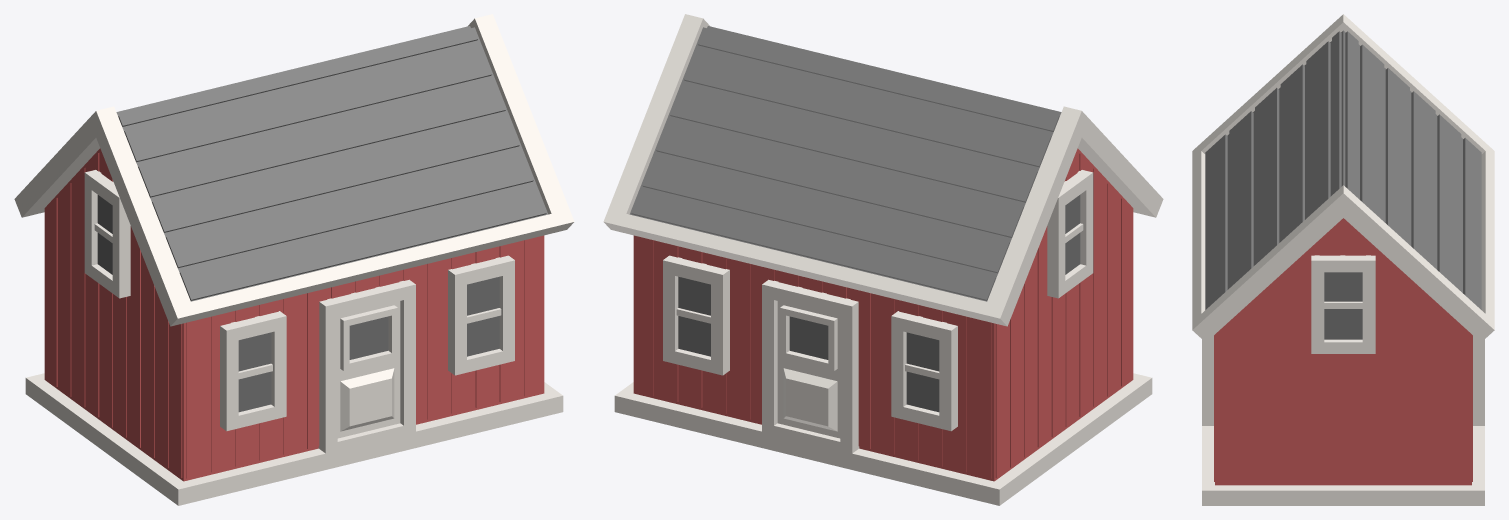
Rendered from 1 - HOUSE PBR.glb.
3 renders of one model, left to right at view 1: azimuth 30°, elevation 25°; view 2: azimuth 150°, elevation 25°; view 3: azimuth 270°, elevation 25°, orthographic. The views are drawn at different scales.
Visible parts, largest first — view 1: Cube-PBR.2, Cube-PBR.3 (×2), Cube-PBR.1 (×2), door.1-PBR.1, window.2-PBR.1, window.3-PBR.1, window.6-PBR.1, window.3-PBR.4, window.2-PBR.4, door.1-PBR.4, window.6-PBR.4; view 2: Cube-PBR.2, Cube-PBR.3 (×2), Cube-PBR.1 (×2), door-PBR.1, window.1-PBR.1, window-PBR.1, window.6-PBR.1, window-PBR.4, window.1-PBR.4, door-PBR.4, window.6-PBR.4; view 3: Cube-PBR.3 (×2), Cube-PBR.2, Cube-PBR.1 (×4), window.4-PBR.1, window.4-PBR.4, window.2-PBR.1, window.1-PBR.1.
Boxes of the visible parts, x1,y1,x2,y2 form: Cube-PBR.2: [116, 26, 548, 301]; Cube-PBR.3 (×2): [44, 148, 544, 481]; Cube-PBR.1 (×2): [14, 14, 574, 505]; door.1-PBR.1: [318, 279, 415, 455]; window.2-PBR.1: [448, 255, 514, 375]; window.3-PBR.1: [220, 311, 286, 431]; window.6-PBR.1: [84, 170, 130, 298]; window.3-PBR.4: [238, 332, 271, 412]; window.2-PBR.4: [467, 276, 499, 356]; door.1-PBR.4: [349, 316, 388, 359]; window.6-PBR.4: [97, 195, 112, 274]; Cube-PBR.2: [629, 26, 1061, 301]; Cube-PBR.3 (×2): [633, 148, 1133, 481]; Cube-PBR.1 (×2): [603, 14, 1163, 505]; door-PBR.1: [762, 279, 859, 456]; window.1-PBR.1: [663, 255, 729, 375]; window-PBR.1: [891, 311, 957, 431]; window.6-PBR.1: [1047, 170, 1093, 298]; window-PBR.4: [906, 332, 939, 412]; window.1-PBR.4: [678, 276, 710, 356]; door-PBR.4: [789, 316, 828, 359]; window.6-PBR.4: [1065, 195, 1080, 274]; Cube-PBR.3 (×2): [1214, 218, 1472, 485]; Cube-PBR.2: [1205, 30, 1481, 309]; Cube-PBR.1 (×4): [1192, 14, 1494, 505]; window.4-PBR.1: [1311, 255, 1375, 353]; window.4-PBR.4: [1324, 272, 1362, 339]; window.2-PBR.1: [1202, 335, 1213, 425]; window.1-PBR.1: [1473, 335, 1484, 425].
Size of the model in its own units: 330 by 271 by 235.
